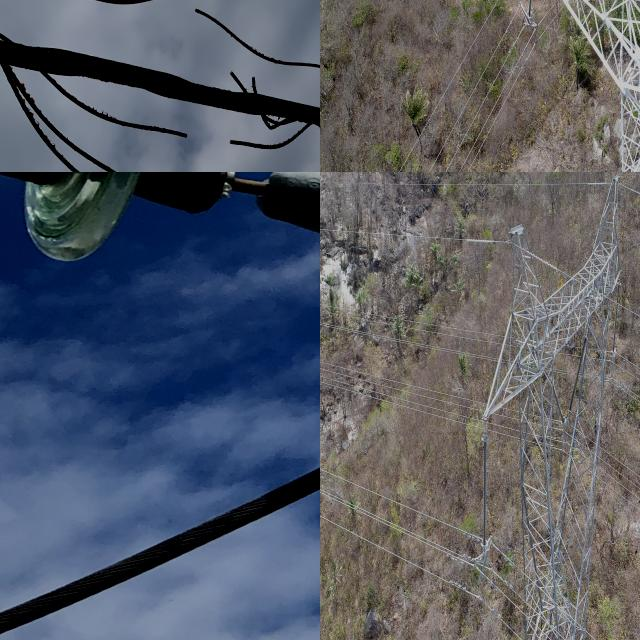杆塔: (447, 176, 640, 640)
正常电缆: (0, 438, 320, 640), (395, 0, 504, 172), (426, 0, 522, 172), (444, 26, 526, 172), (457, 44, 528, 172), (466, 46, 534, 172)
正常绝缘子: (4, 172, 320, 331), (477, 430, 493, 578), (566, 335, 590, 417), (548, 374, 566, 427), (611, 280, 622, 355), (525, 0, 535, 44)
电缆破损: (0, 0, 320, 172)
绝缘子破损: (178, 172, 316, 235)
